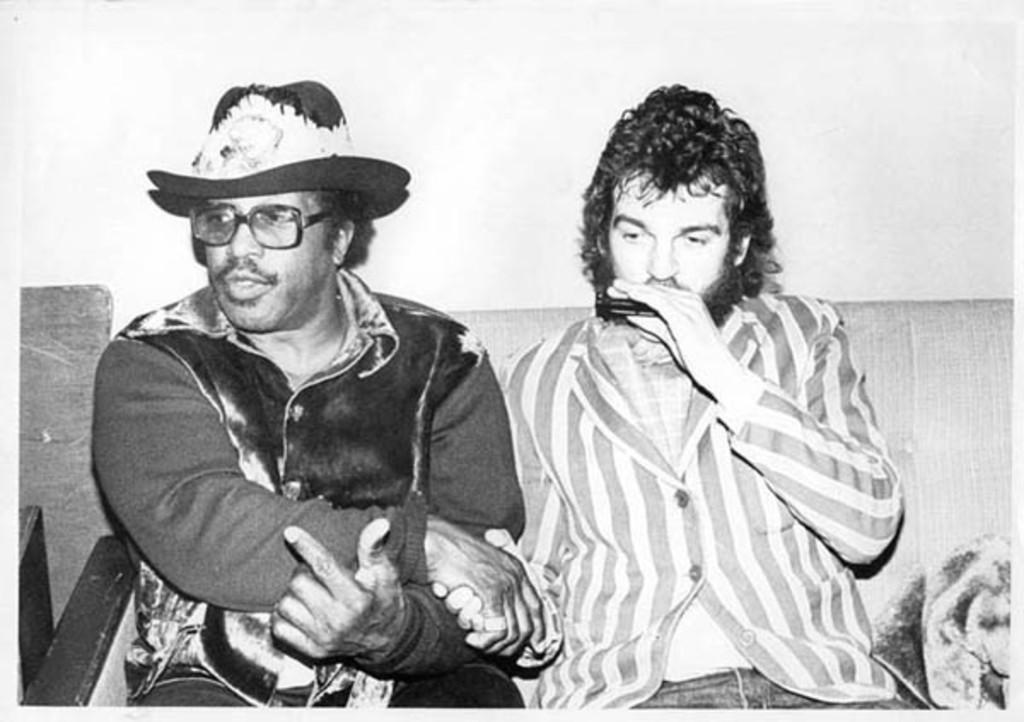Hat: (146, 78, 412, 215)
